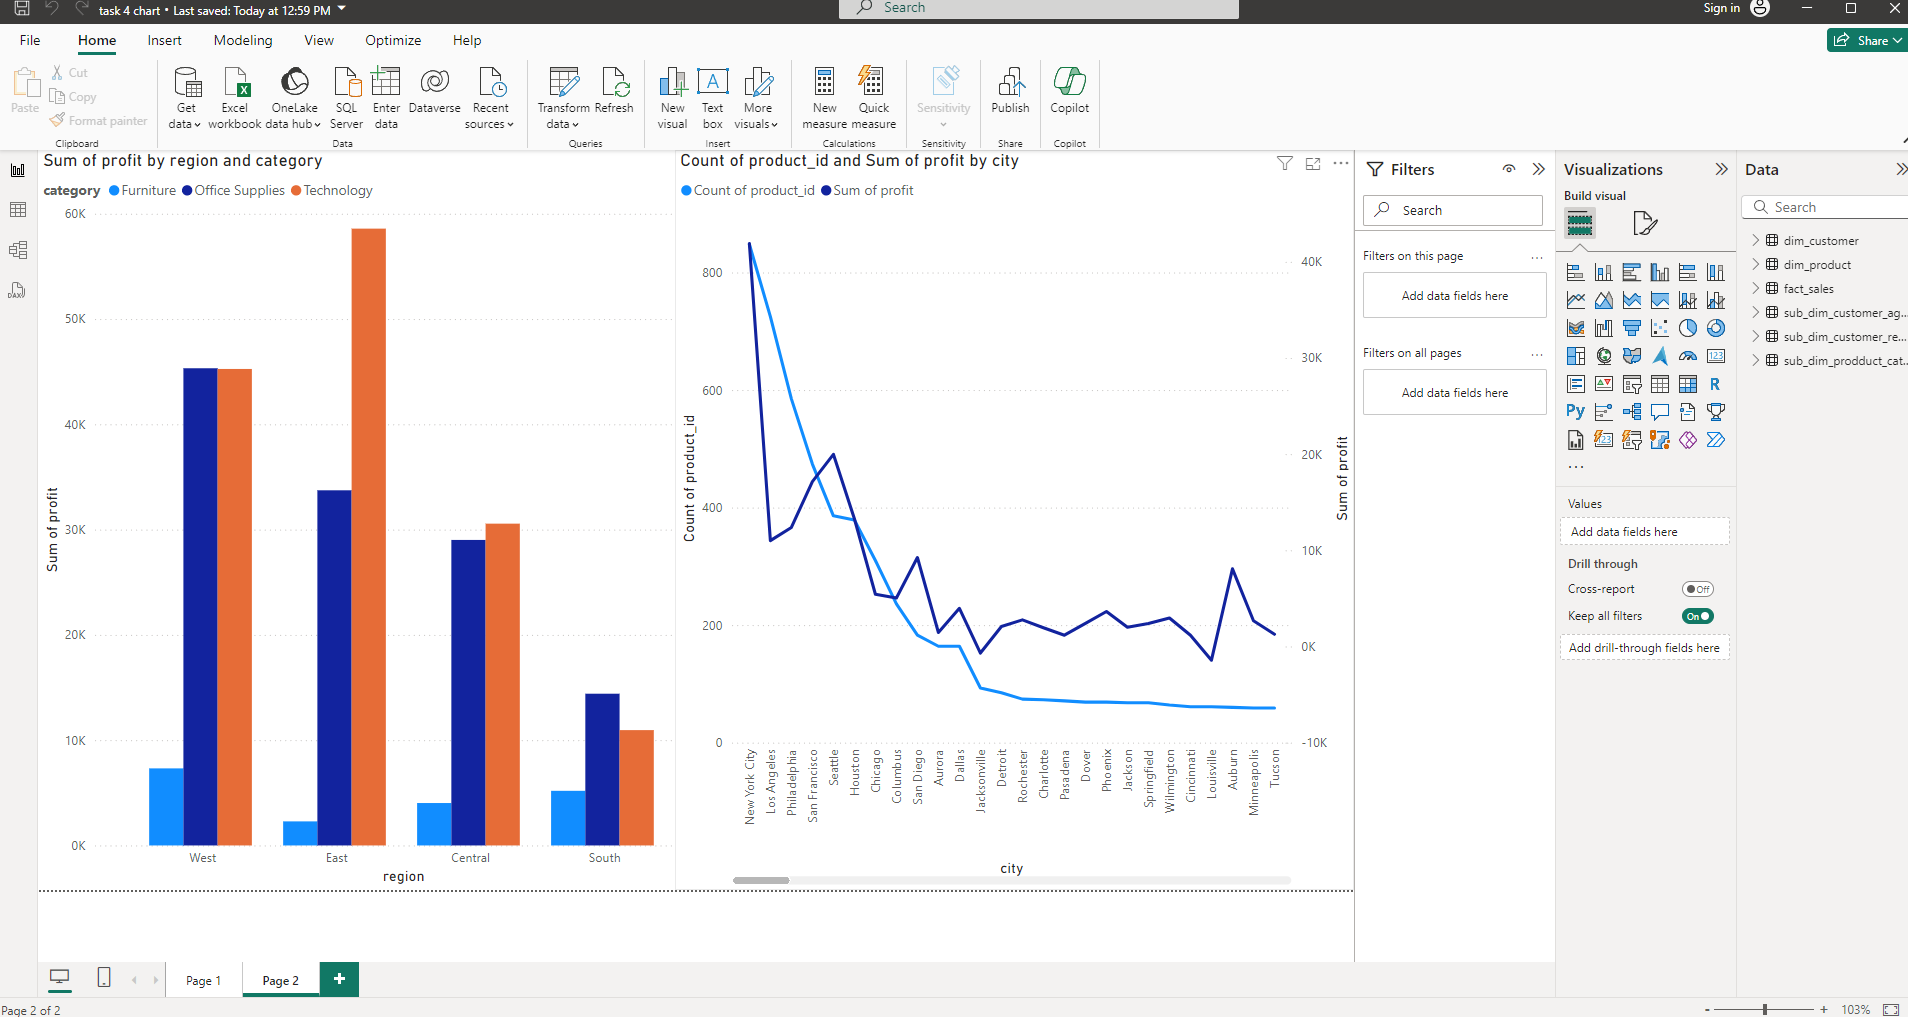

The dashboard page shown, as its layout file describes it:
{"tool":"powerbi","page":{"name":"Page 2","canvas":[1280,720],"ordinal":1},"visuals":[{"type":"clusteredColumnChart","fields":{"Y":["Sum(fact_sales.profit)"],"Category":["sub_dim_customer_region.region"],"Series":["sub_dim_prodduct_category.category"]},"box":[0,0,660.4,719.8],"z":0},{"type":"lineChart","fields":{"Category":["sub_dim_customer_region.city"],"Y":["CountNonNull(fact_sales.product_id)"],"Y2":["Sum(fact_sales.profit)"]},"box":[619.6,0,660.4,719.8],"z":1}]}

Visuals, with their boxes on the page's 1280x720 design canvas (x1, y1, x2, y2). These are canvas units, not pixel positions in the 1908x1017 screenshot, which may show the page scaled, cropped or inside an application window:
clusteredColumnChart - Sum(fact_sales.profit) x sub_dim_customer_region.region: <box>0,0,660,720</box>
lineChart - sub_dim_customer_region.city x CountNonNull(fact_sales.product_id): <box>620,0,1280,720</box>
